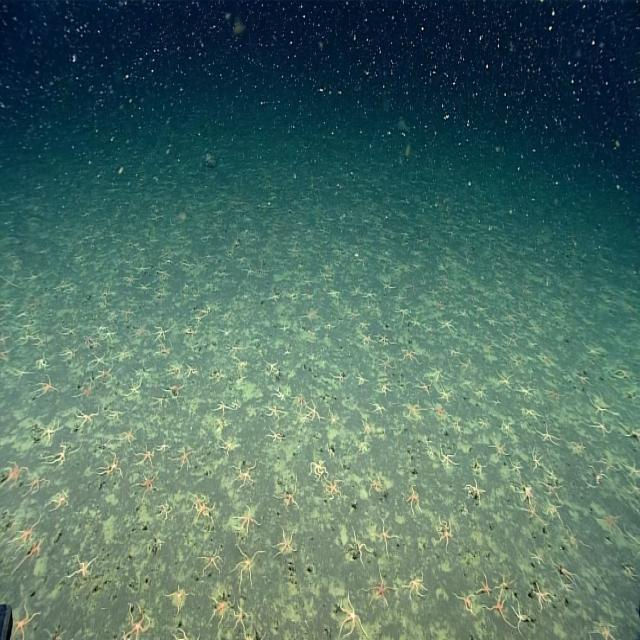brittle-stars: (228, 546, 265, 591), (338, 593, 368, 640), (482, 589, 515, 631), (10, 605, 42, 640), (207, 592, 236, 628), (12, 539, 42, 573), (123, 604, 150, 640), (8, 516, 40, 544), (368, 574, 394, 608), (270, 528, 296, 560), (350, 532, 373, 568), (1, 457, 28, 487), (510, 594, 530, 634), (164, 586, 193, 613), (530, 581, 556, 611), (234, 504, 259, 534), (66, 556, 100, 578), (132, 473, 163, 497), (376, 520, 396, 557), (589, 392, 617, 418), (274, 482, 298, 511), (41, 445, 68, 470), (97, 453, 122, 479), (401, 576, 429, 599), (454, 588, 476, 617), (171, 447, 196, 472), (232, 464, 256, 490), (598, 510, 624, 534), (233, 606, 251, 640), (437, 446, 458, 475), (589, 619, 618, 640), (488, 436, 512, 461), (33, 376, 60, 398), (202, 546, 222, 575), (404, 484, 422, 516), (35, 419, 58, 444), (538, 478, 566, 498), (402, 396, 425, 420), (588, 416, 612, 439), (544, 499, 566, 524), (324, 475, 344, 502), (438, 514, 452, 552), (72, 379, 95, 402), (558, 565, 580, 589), (74, 408, 98, 429), (466, 476, 484, 504), (537, 423, 557, 448), (170, 625, 202, 640), (132, 444, 156, 464), (210, 400, 236, 418), (162, 380, 184, 401), (194, 502, 215, 523), (307, 459, 327, 481), (618, 424, 640, 444), (496, 369, 517, 389), (92, 364, 115, 382), (304, 399, 320, 424), (124, 376, 142, 398), (400, 348, 421, 366), (149, 325, 170, 343), (436, 314, 457, 332), (51, 491, 69, 511), (426, 364, 446, 382), (517, 483, 534, 504), (493, 576, 518, 590), (476, 574, 491, 596), (325, 399, 338, 424), (159, 496, 171, 523), (190, 493, 208, 511), (516, 381, 534, 399), (265, 426, 284, 443), (366, 475, 383, 494), (568, 436, 585, 455), (60, 343, 80, 359), (625, 458, 640, 479), (266, 402, 284, 419), (262, 358, 279, 376), (117, 427, 136, 443), (532, 449, 544, 474), (371, 398, 386, 418), (360, 419, 374, 440), (429, 402, 445, 420), (438, 385, 454, 403), (154, 344, 172, 360), (87, 352, 107, 366), (96, 328, 119, 340), (184, 360, 198, 379), (613, 369, 635, 381), (221, 439, 237, 455), (600, 457, 618, 471), (574, 372, 592, 386), (528, 548, 543, 564), (34, 354, 49, 370), (330, 371, 350, 383), (12, 366, 30, 379), (524, 408, 542, 421), (294, 392, 306, 411), (501, 421, 516, 436), (378, 354, 392, 370), (415, 382, 432, 395), (509, 460, 523, 475), (107, 409, 126, 420), (355, 372, 368, 388), (60, 326, 77, 337), (381, 277, 394, 291), (361, 332, 373, 346), (454, 420, 464, 436), (157, 443, 169, 454), (377, 384, 390, 394)
